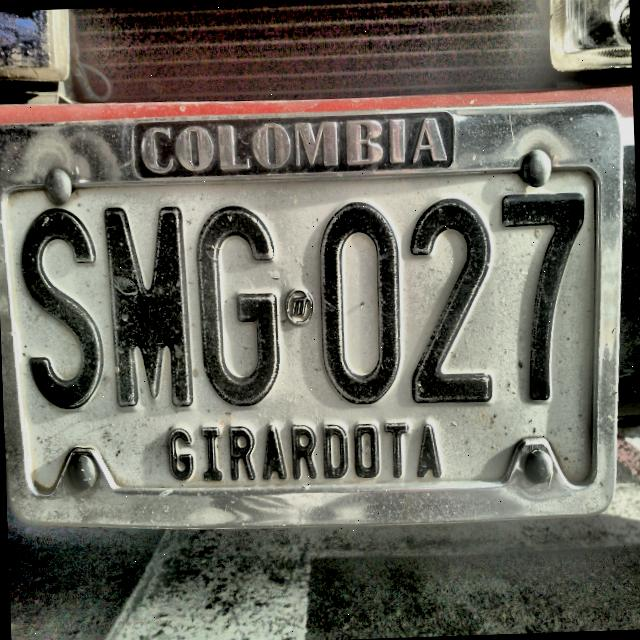plate: (0, 117, 605, 510)
